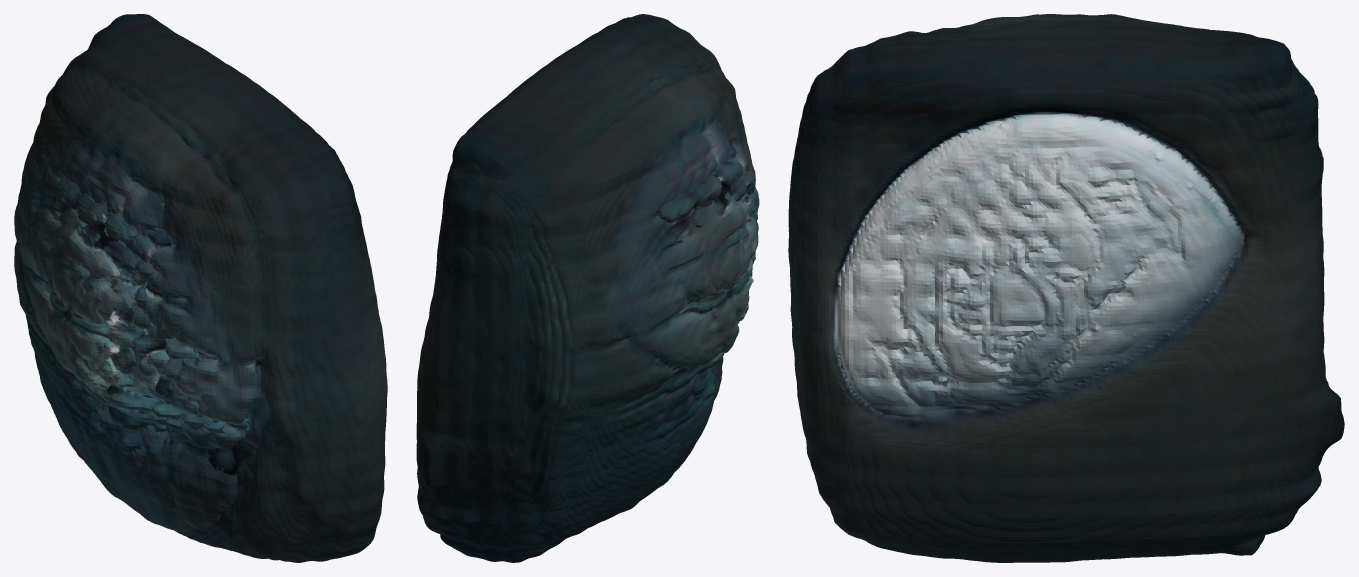
Rendered from planet.glb.
3 renders of one model, left to right at view 1: azimuth 30°, elevation 25°; view 2: azimuth 150°, elevation 25°; view 3: azimuth 270°, elevation 25°, orthographic. The views are drawn at different scales.
Parts seen in each view (by area): view 1: mesh.obj; view 2: mesh.obj; view 3: mesh.obj.
Part boxes in pixels (bbox=[...]): mesh.obj: bbox=[14, 14, 387, 562]; mesh.obj: bbox=[416, 14, 759, 562]; mesh.obj: bbox=[788, 14, 1344, 562].
Size of the model in its own units: 0.5827 by 0.9587 by 0.9689.
